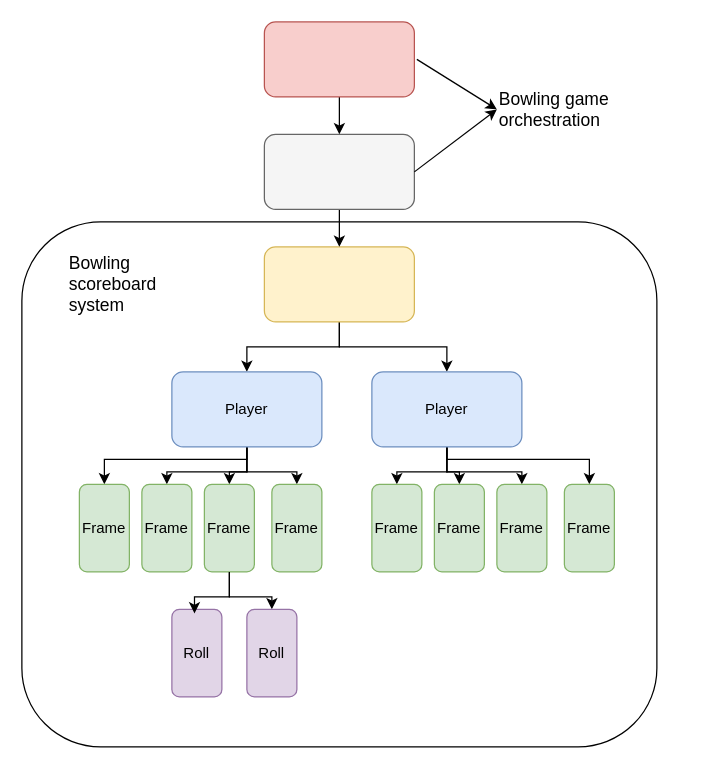
The diagram is 714 pixels wide and 769 high, and some of its shapes have lost their labels. Here are the shapes that lost their labels. From the top down, the box of each, then its label:
(263, 21, 414, 97): BowlingApp
(263, 133, 414, 209): BowlingGameEngine
(263, 246, 414, 322): BowlingManager
